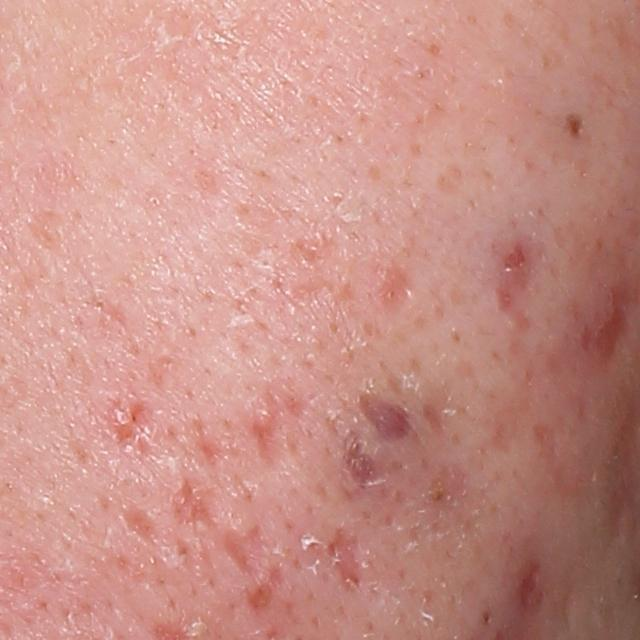atrophic_scar: (495, 236, 545, 338), (595, 279, 638, 369), (352, 396, 418, 449), (169, 476, 222, 533), (325, 526, 364, 596), (117, 503, 167, 554), (243, 565, 289, 614), (222, 529, 262, 577), (376, 272, 417, 314)
